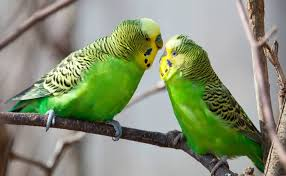budgie: (1, 16, 163, 141), (159, 33, 268, 173)
